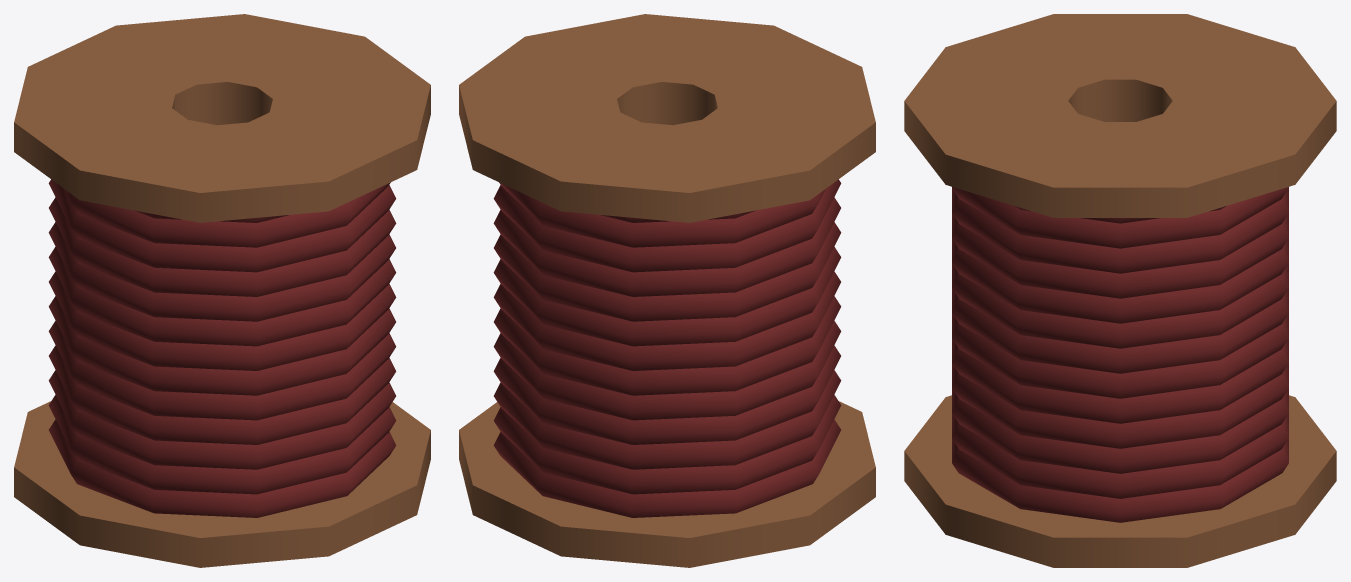
Rendered from Thread_01.fbx.
The picture shows the model from 3 angles, left to right: view 1: azimuth 30°, elevation 25°; view 2: azimuth 150°, elevation 25°; view 3: azimuth 270°, elevation 25°; orthographic projection.
Visible parts, largest first — view 1: Thread_01; view 2: Thread_01; view 3: Thread_01.
Boxes of the visible parts, x1,y1,x2,y2 form: Thread_01: [14, 14, 430, 567]; Thread_01: [459, 14, 875, 567]; Thread_01: [904, 14, 1336, 567].
Bounding box in the file's own units: 0.0723 × 0.0738 × 0.076.
